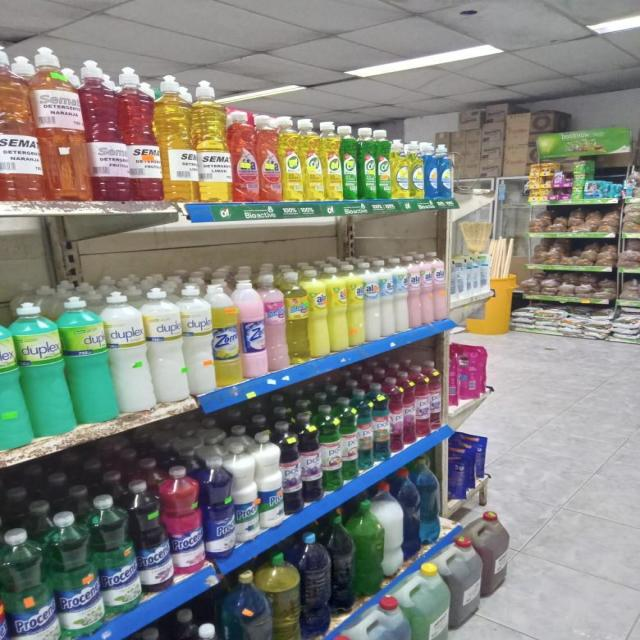ala_conc_rojo: (232, 110, 258, 202), (259, 114, 280, 202)
ala_crem_amarillo: (287, 269, 308, 364), (328, 264, 348, 353), (309, 267, 328, 358), (348, 262, 365, 348)
ala_crem_blanco: (366, 262, 381, 342), (395, 258, 408, 333), (382, 260, 394, 337)
ala_crem_rosado: (266, 270, 287, 372), (421, 252, 434, 326), (434, 252, 447, 323), (409, 256, 421, 329)
cif_conc_bot_amarilla: (281, 116, 302, 200), (302, 118, 322, 201), (322, 121, 342, 201)
cif_conc_botella_verde: (359, 126, 375, 200), (342, 125, 357, 200), (376, 128, 390, 200)
magistral_con_amarillo: (392, 139, 408, 199), (410, 141, 424, 199)
magistral_con_azul: (438, 143, 454, 200), (425, 142, 438, 200)
